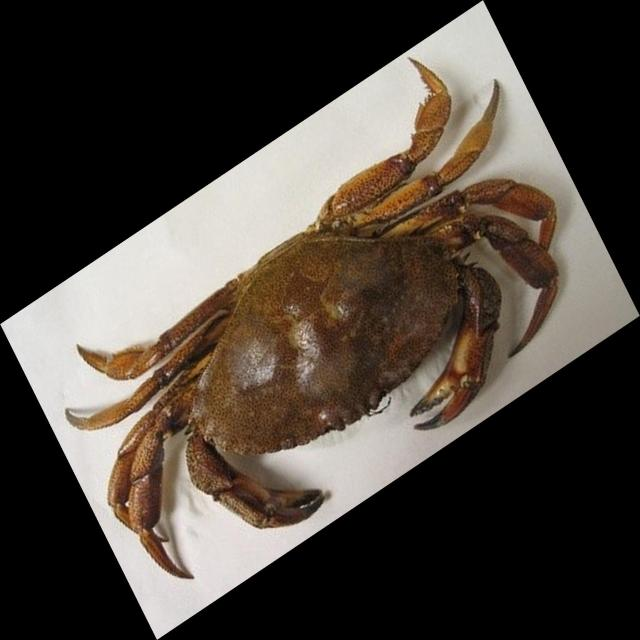Native Rock crab: (66, 59, 558, 579)
